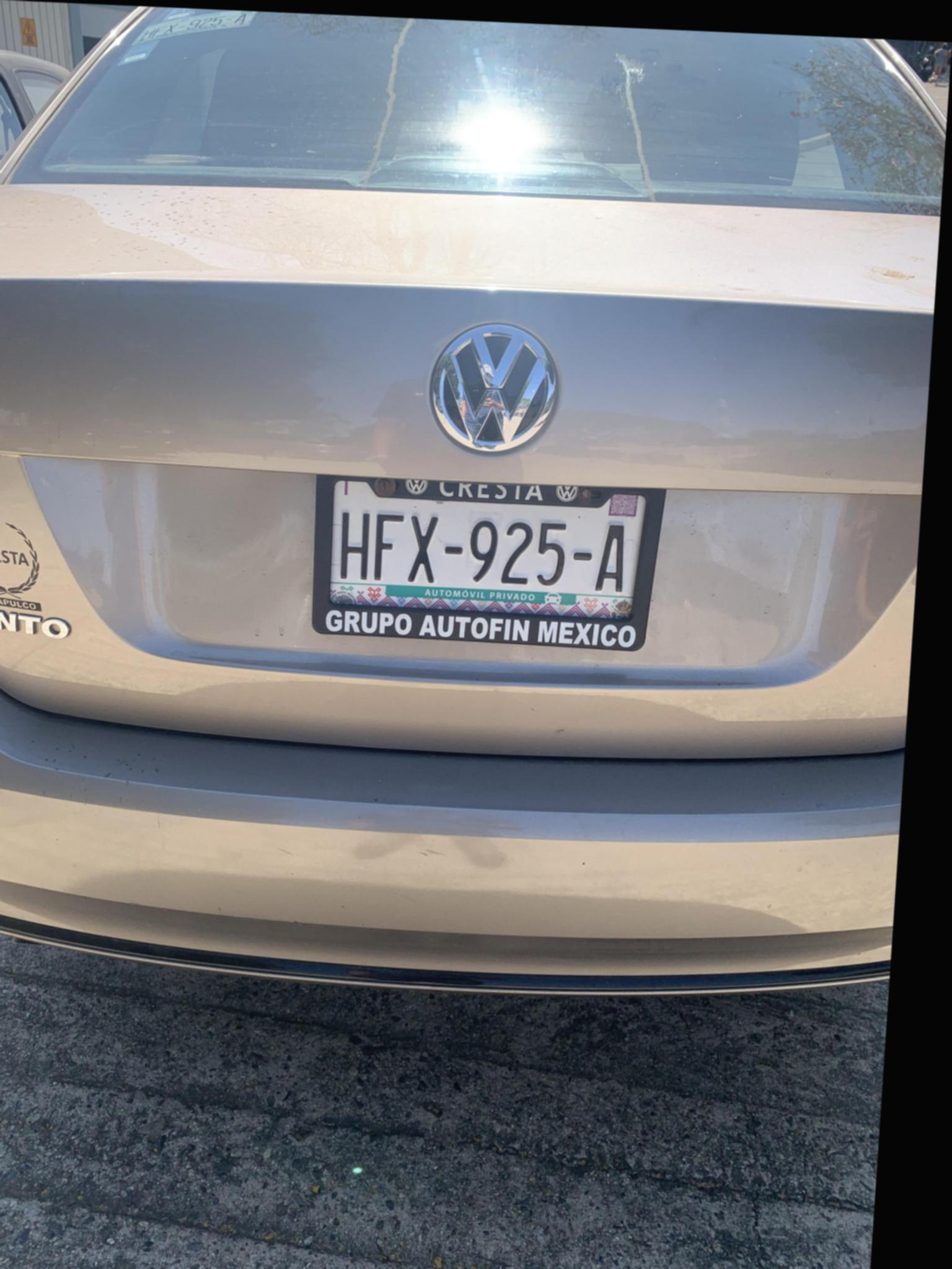License_Plate: (284, 458, 696, 674)
